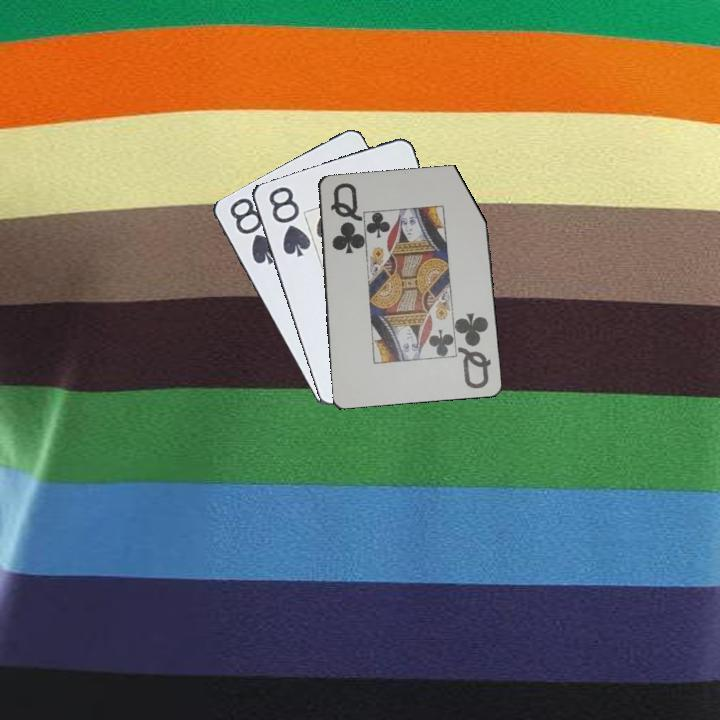8s: (226, 194, 282, 268), (265, 183, 312, 260)
Qc: (453, 309, 494, 391), (327, 179, 362, 256)
